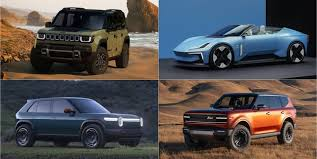car: (13, 94, 144, 151), (178, 90, 299, 150), (30, 6, 131, 76), (173, 22, 309, 70)
